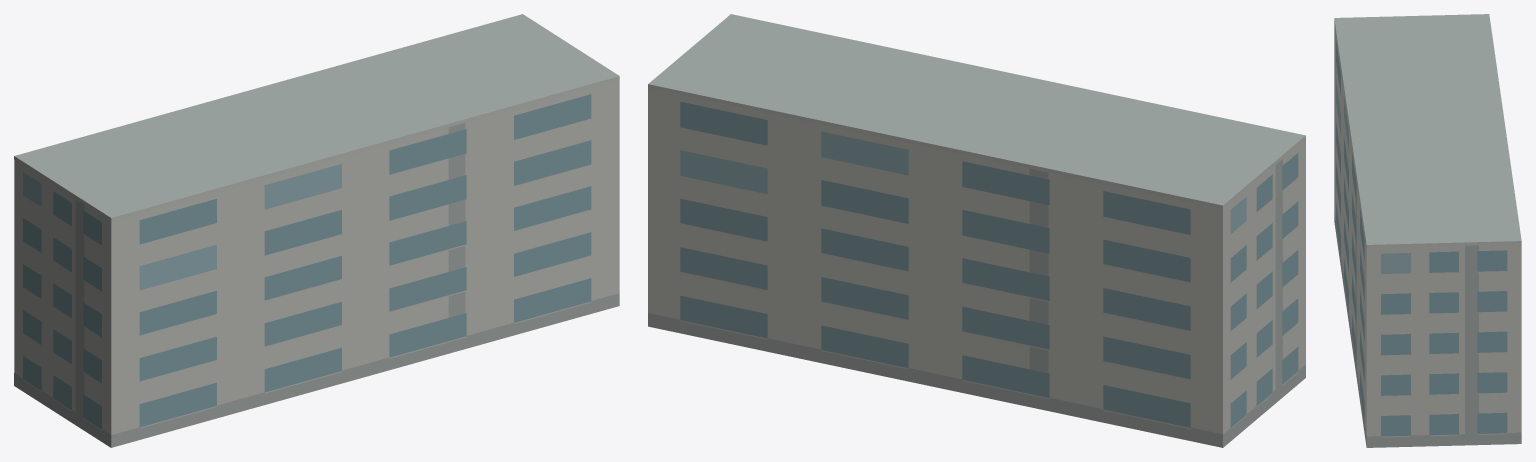
Rendered from residential-4404615f-d492-4ea3-b070-e8f198dcdfe1.glb.
3 renders of one model, left to right at view 1: azimuth 30°, elevation 25°; view 2: azimuth 150°, elevation 25°; view 3: azimuth 270°, elevation 25°, orthographic. The views are drawn at different scales.
Parts seen in each view (by area): view 1: residential-4404615f-d492-4ea3-b070-e8f198dcdfe1.tmp; view 2: residential-4404615f-d492-4ea3-b070-e8f198dcdfe1.tmp; view 3: residential-4404615f-d492-4ea3-b070-e8f198dcdfe1.tmp.
Boxes of the visible parts, left/top/right/bottom form: residential-4404615f-d492-4ea3-b070-e8f198dcdfe1.tmp: left=14, top=14, right=619, bottom=447; residential-4404615f-d492-4ea3-b070-e8f198dcdfe1.tmp: left=648, top=14, right=1305, bottom=447; residential-4404615f-d492-4ea3-b070-e8f198dcdfe1.tmp: left=1334, top=14, right=1521, bottom=447.
Bounding box in the file's own units: 37.22 × 15.25 × 12.77.
